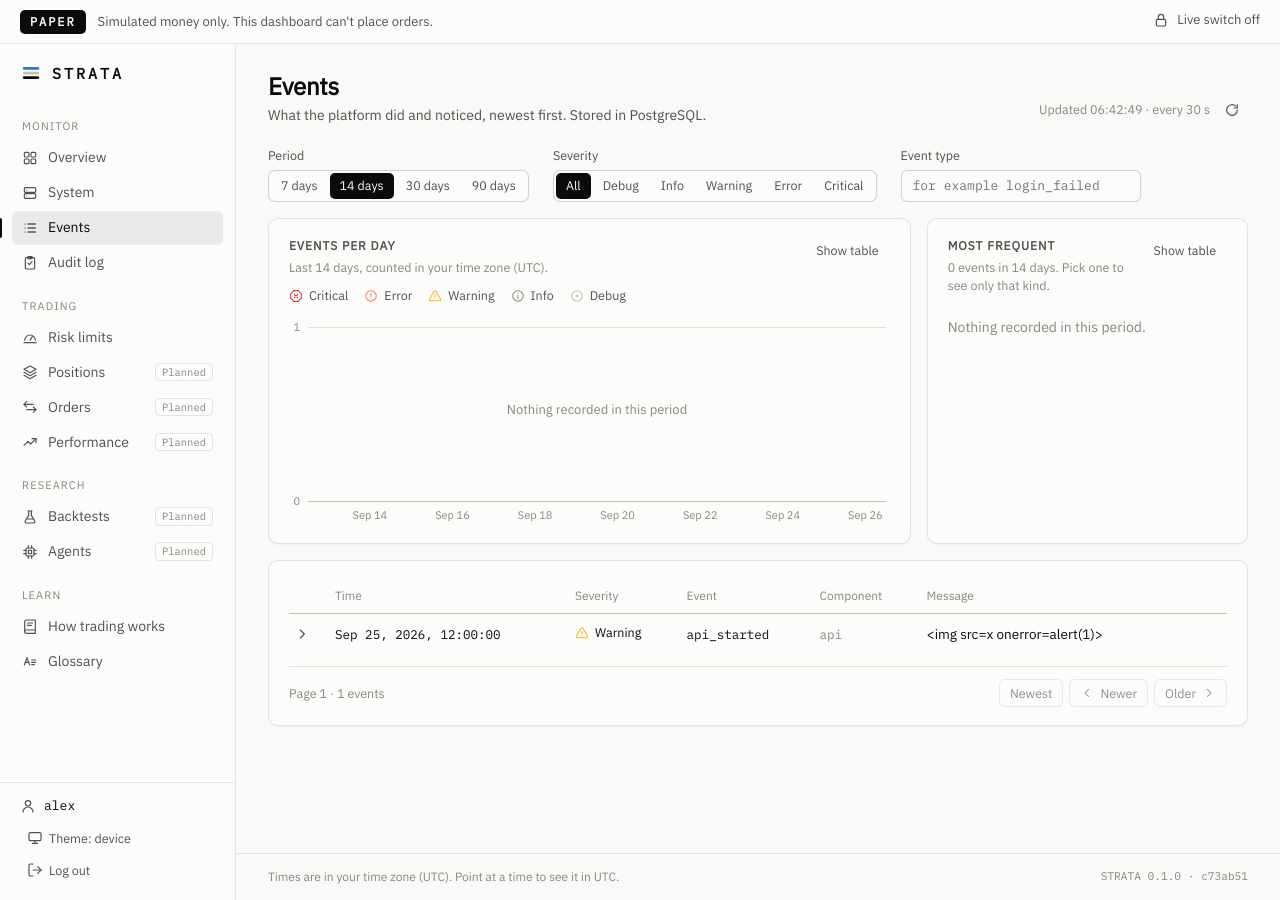
the events page › shows details as text, so nothing in an event can run
Expected: the text "<img src=x onerror=alert(1)>" is shown, [917, 614, 1227, 654]
Click the button named "Show details of event 9" at point(302, 634), box [289, 621, 315, 647]
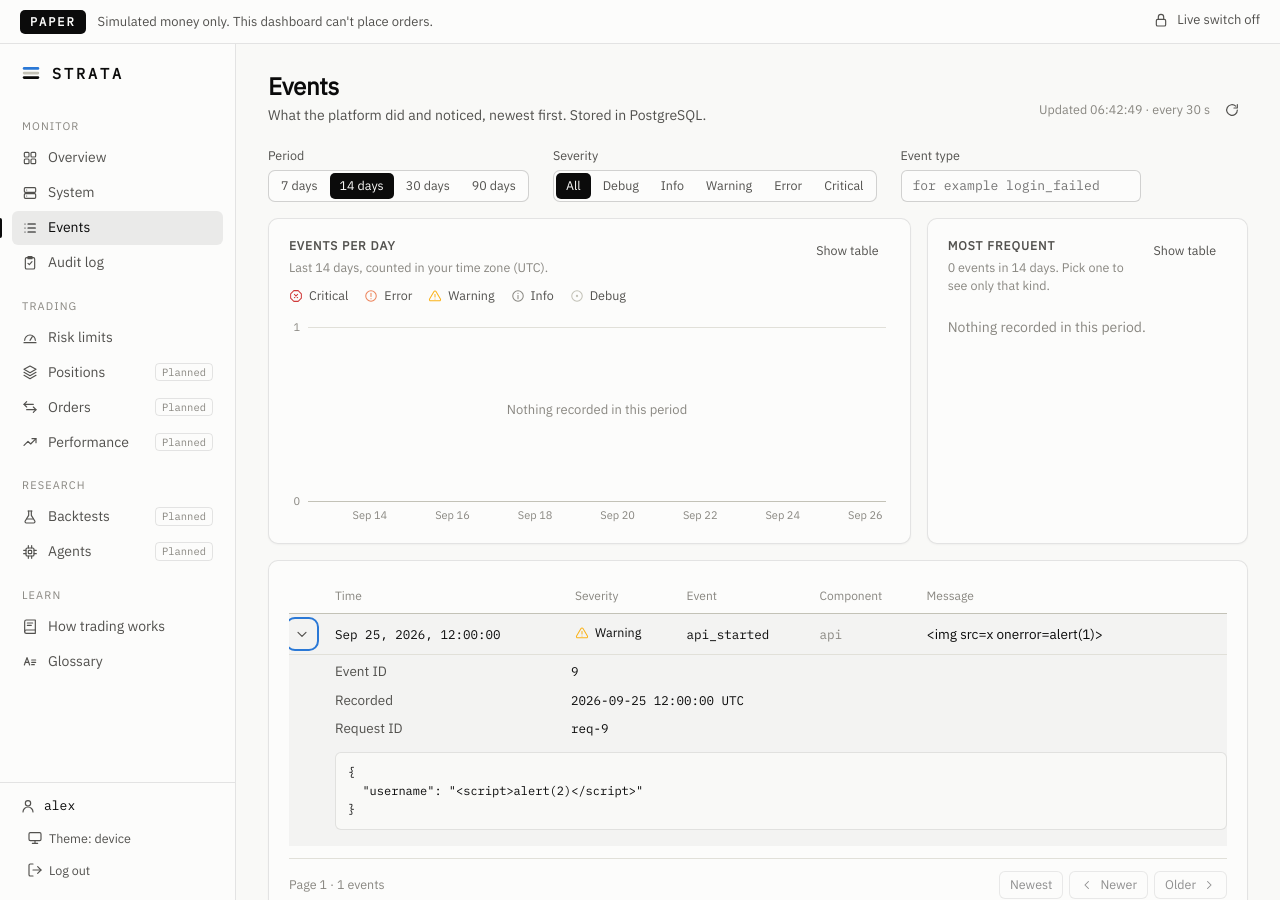
Expected: the text "req-9" is shown, [571, 720, 609, 736]
Expected: the text "{ \"username\": \"<script>alert(2)</script>\" }" is shown, [335, 752, 1227, 830]
